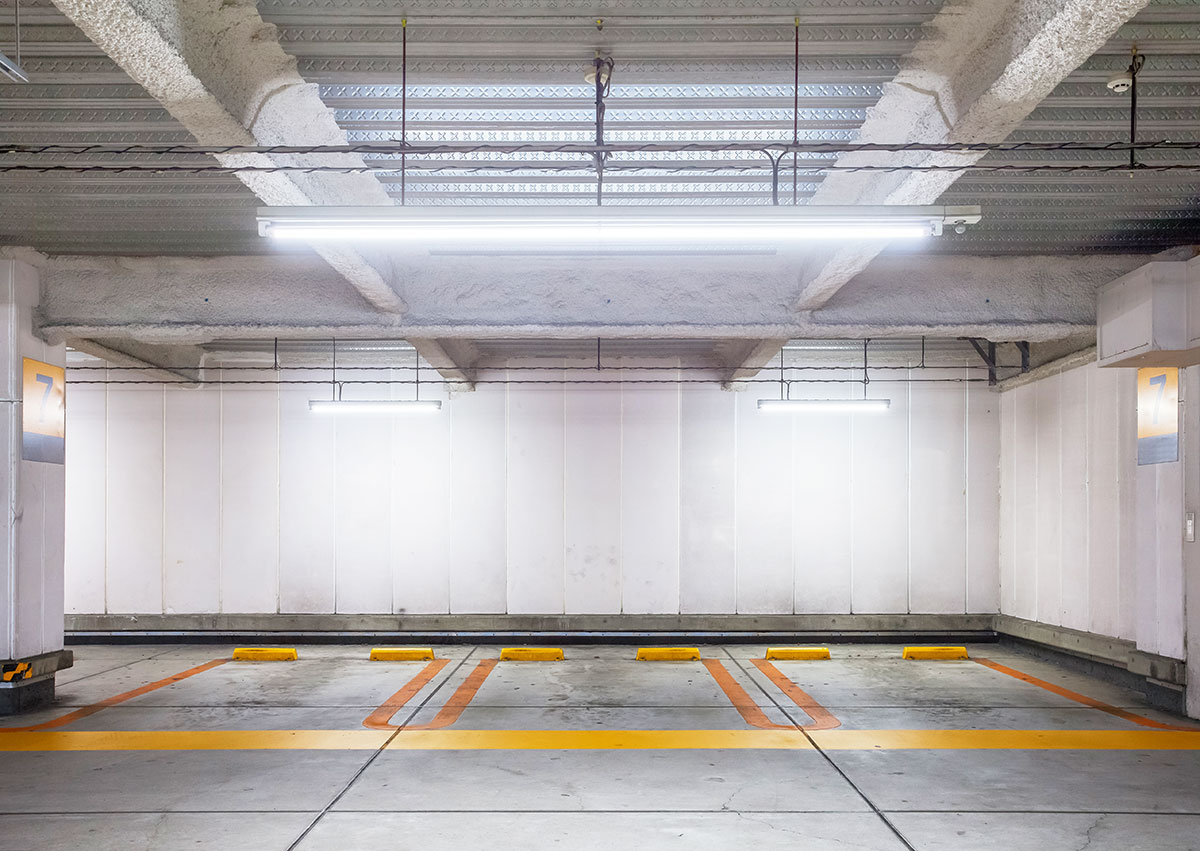empty_space: (747, 636, 1188, 732), (60, 633, 434, 727), (424, 640, 775, 730)
